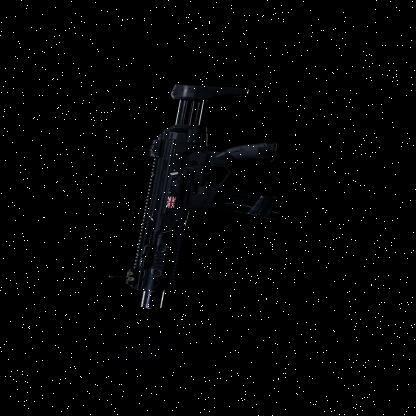rifle: (92, 77, 317, 323)
